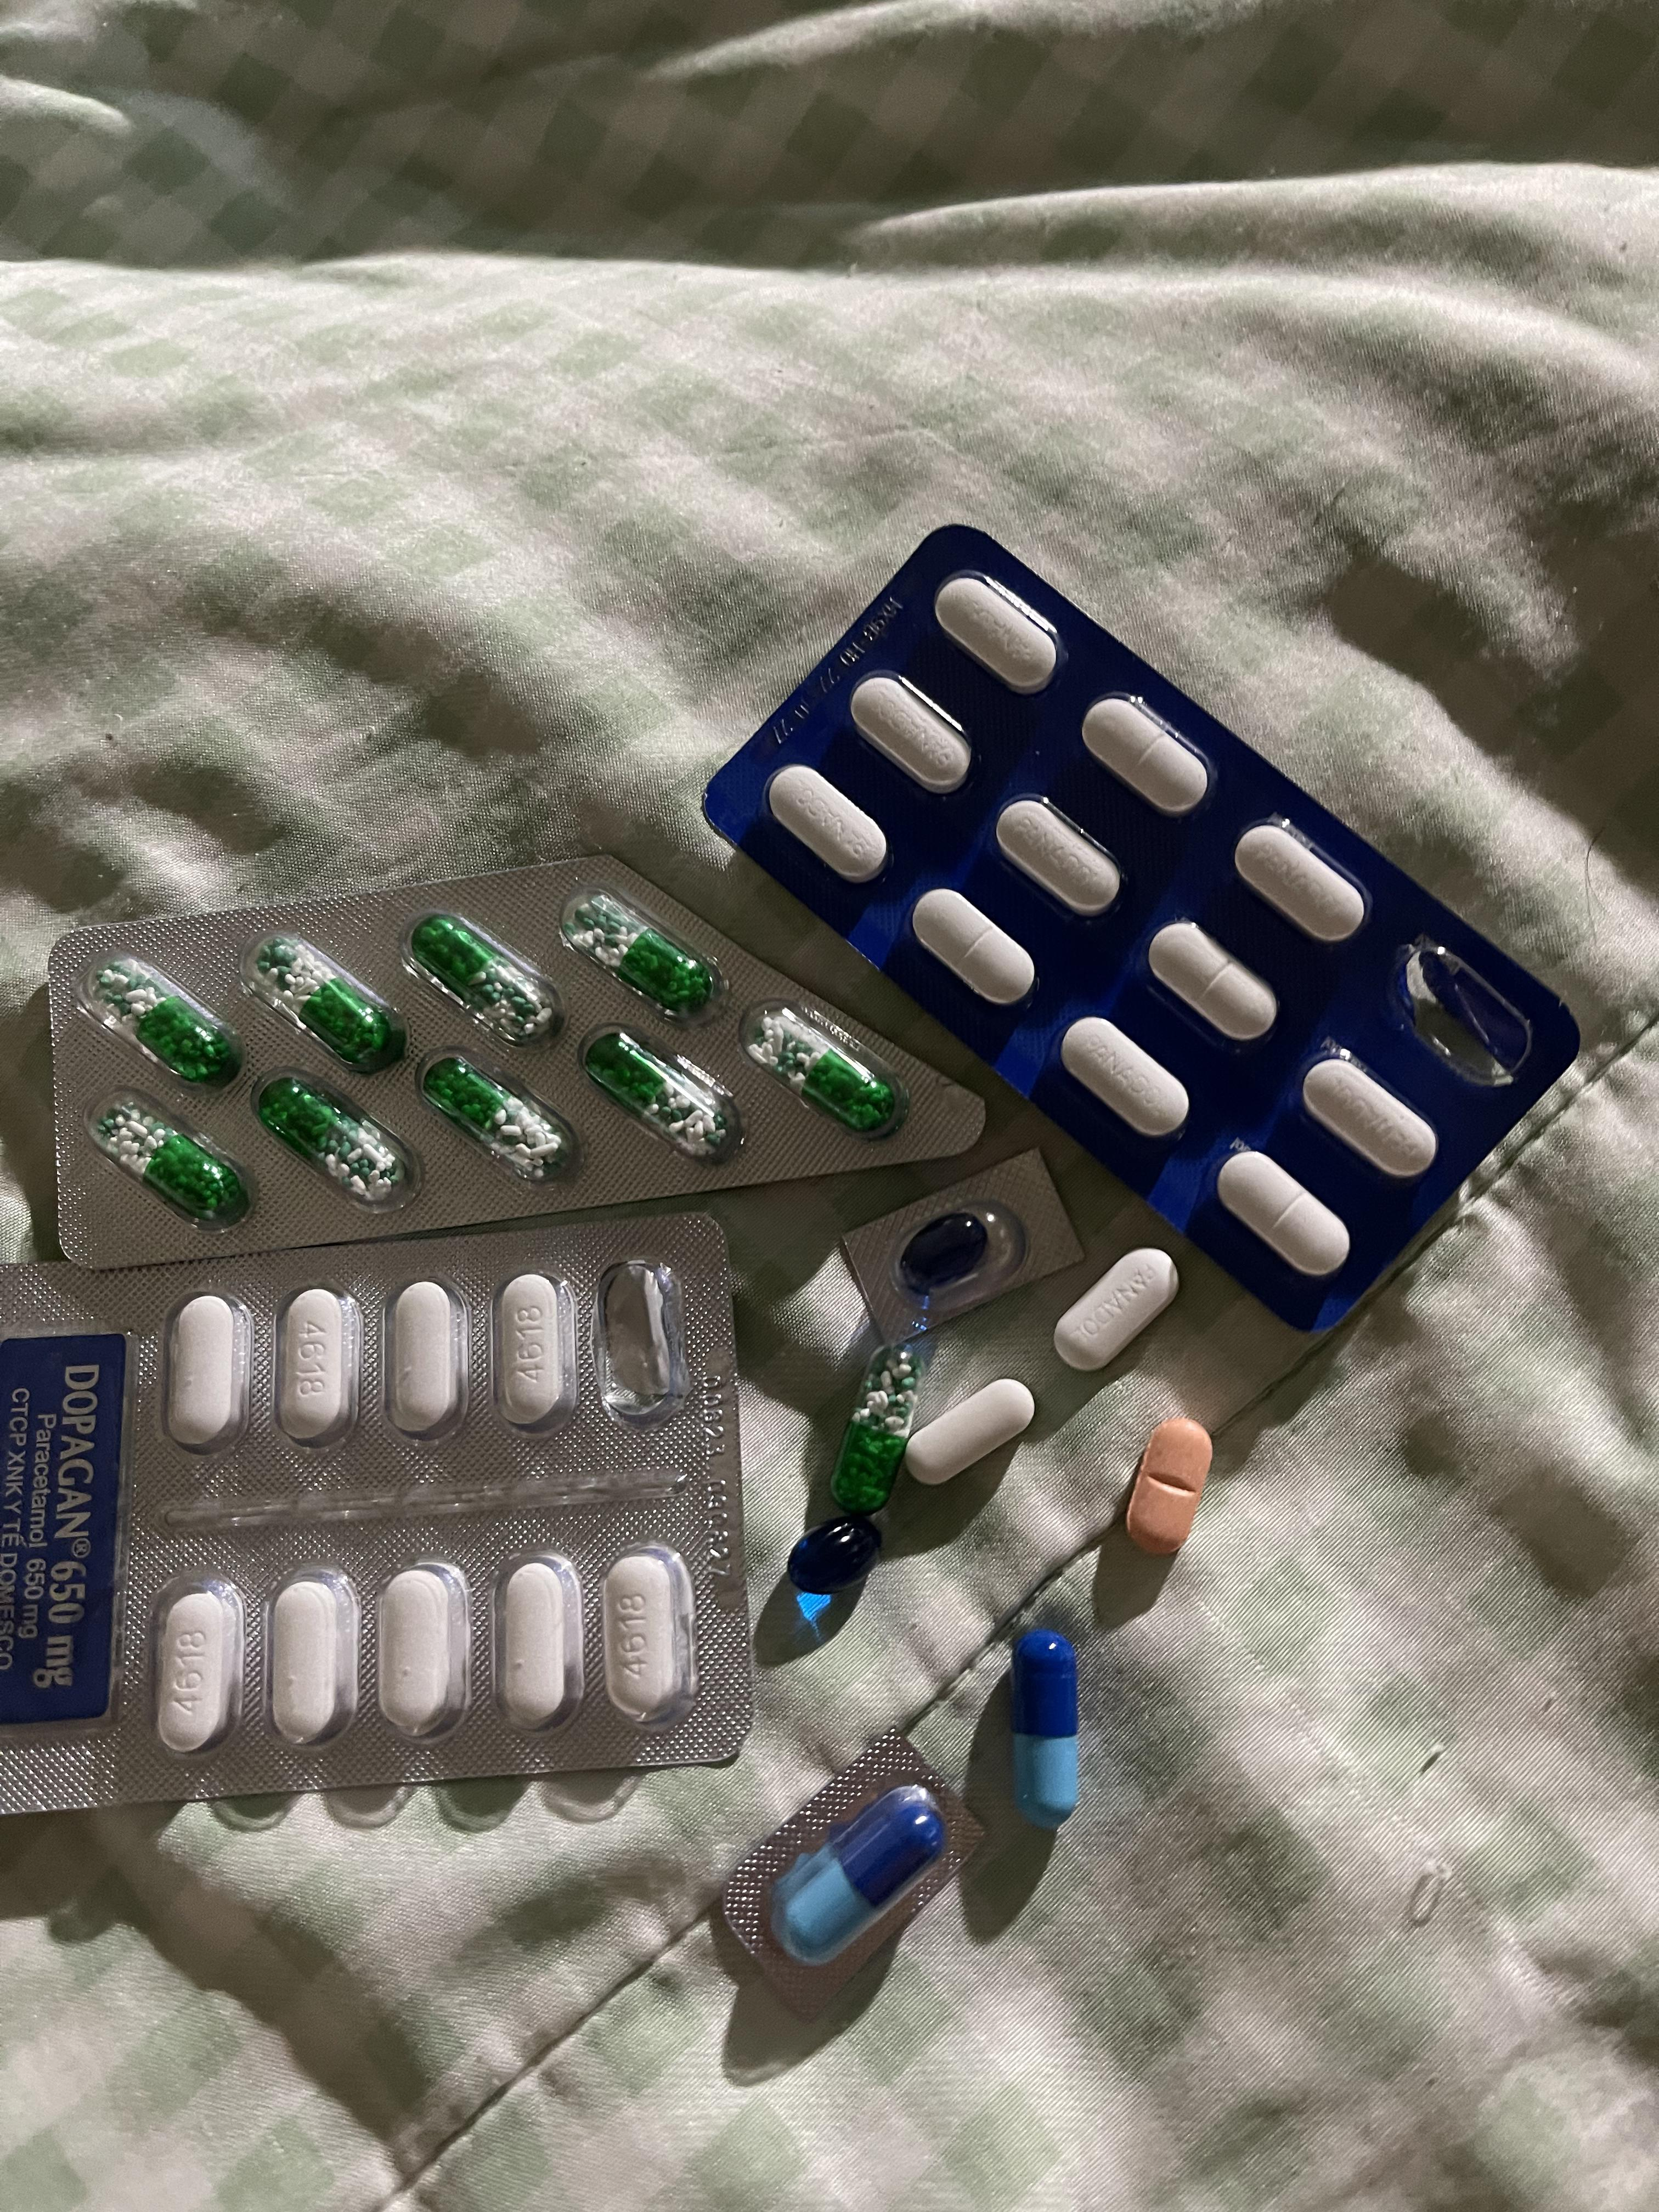Lincomyxin_500mg: (786, 1515, 882, 1595), (899, 1212, 992, 1294)
Loratadine_10mg: (1127, 1420, 1215, 1555)
Paracetamol_350mg: (1300, 1054, 1439, 1179), (1216, 1151, 1351, 1273), (1236, 820, 1370, 941), (1061, 1015, 1190, 1139), (1082, 693, 1213, 815), (1148, 921, 1279, 1043), (1054, 1251, 1182, 1374), (995, 794, 1124, 916), (936, 571, 1063, 693), (852, 672, 976, 794), (769, 766, 889, 885), (911, 888, 1033, 1005)
Paracetamol_500mg: (148, 1576, 244, 1757), (601, 1548, 697, 1726), (491, 1550, 584, 1733), (376, 1564, 471, 1742), (903, 1376, 1035, 1487), (270, 1571, 354, 1745), (275, 1287, 357, 1447), (495, 1273, 577, 1430), (167, 1294, 240, 1451), (390, 1280, 460, 1435)
Paracetamol_650mg: (420, 1050, 579, 1183), (251, 939, 404, 1068), (577, 1029, 725, 1160), (256, 1076, 406, 1202), (408, 918, 556, 1040), (96, 1101, 246, 1221), (830, 1338, 932, 1512), (91, 960, 237, 1082), (566, 897, 714, 1017), (744, 1010, 887, 1134)
pill: (777, 1785, 945, 1961), (1007, 1627, 1079, 1829)
